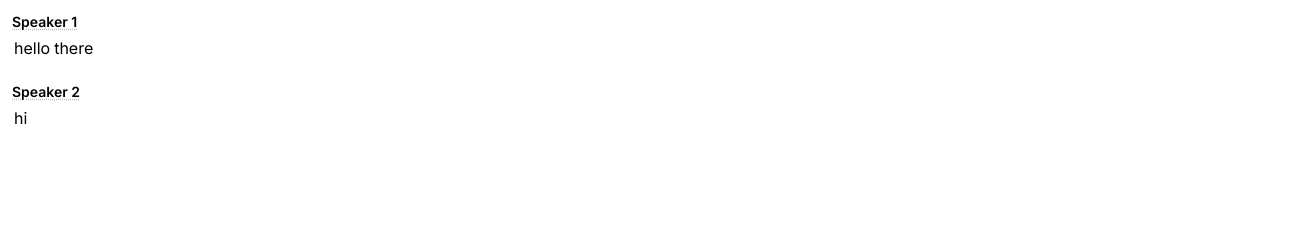
Test case: RefineEditor — VFTE speaker tagging › owners get the name+email tag form when a speaker is opened
Click the button "Speaker 1". click: (45, 22)
box: [12,12,77,32]
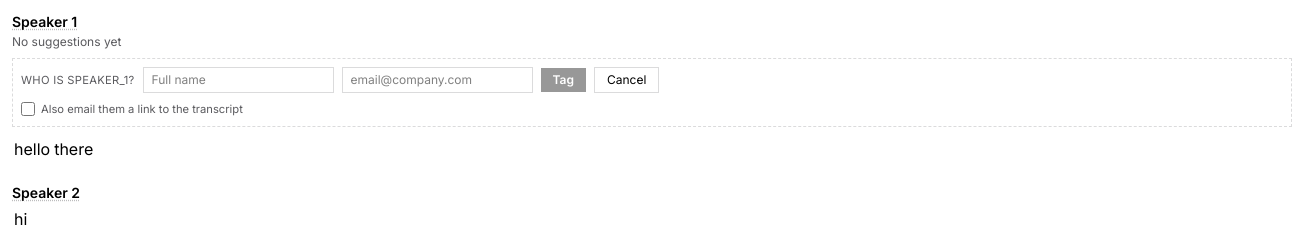
Now the element with test id "speaker-tag-form" is shown, box [12,58,1291,127]
Now the field with placeholder "Full name" is shown, box [142,67,334,93]
Now the field with placeholder "email@company.com" is shown, box [342,67,532,93]
